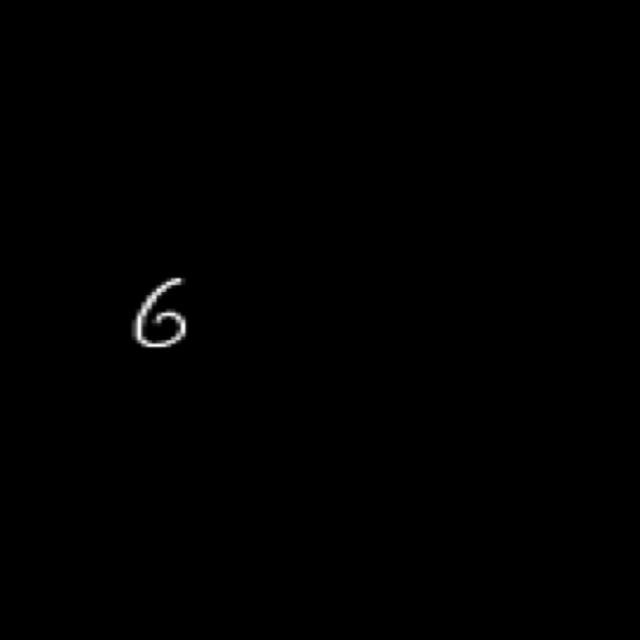six -6-: (116, 265, 208, 356)
